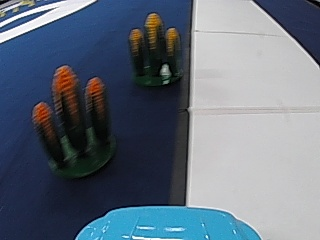corn: (33, 65, 114, 182), (128, 14, 184, 88)
